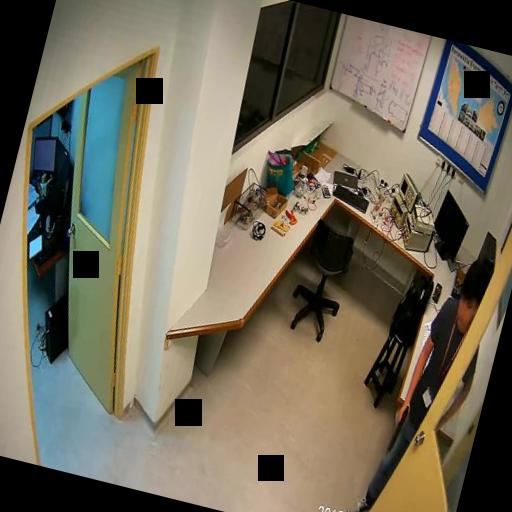Handgun: (386, 403, 409, 452)
